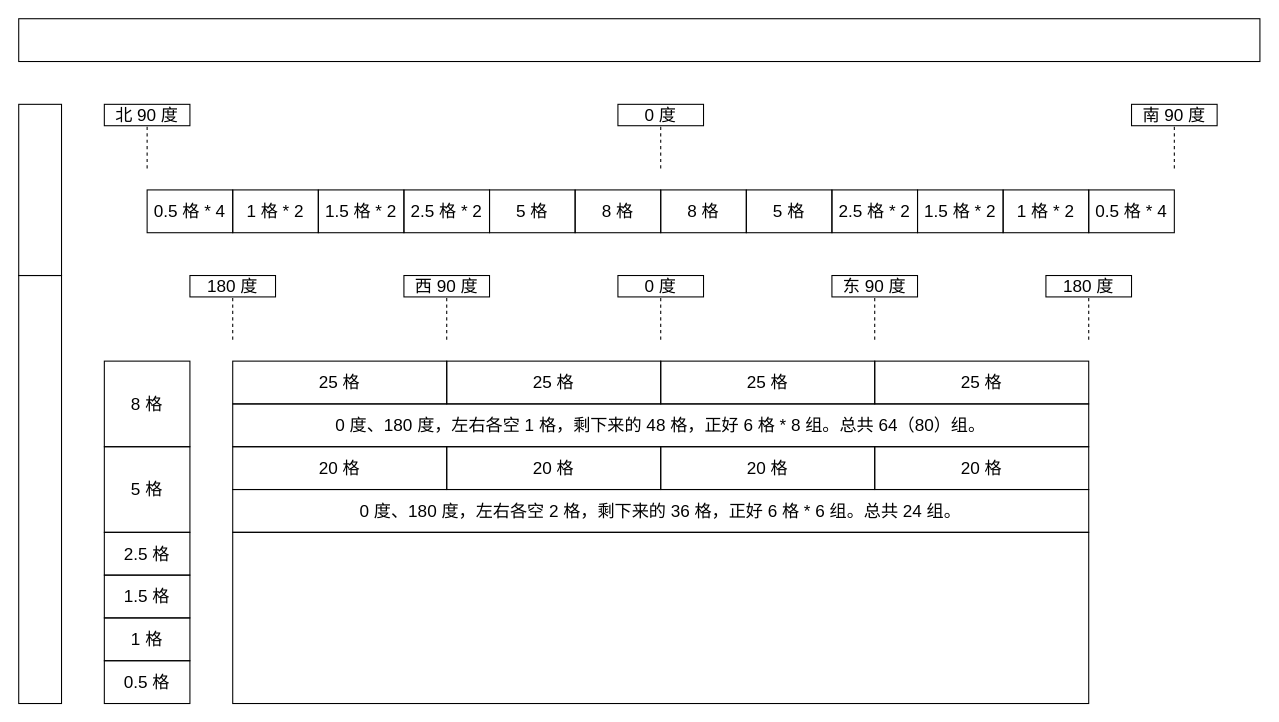
This 1279x722 diagram has some shape labels left out. The shapes that lost their labels are listed below. From the top down, each one's centre as x and y in pixels, then its label:
point 639,40: 行星建造网格（1 格 = 10 小格）
point 40,189: 纬度
point 40,489: 经度
point 660,617: 这里的格子看情况了，放点杂七杂八的东西可以，不太好规划产线。
